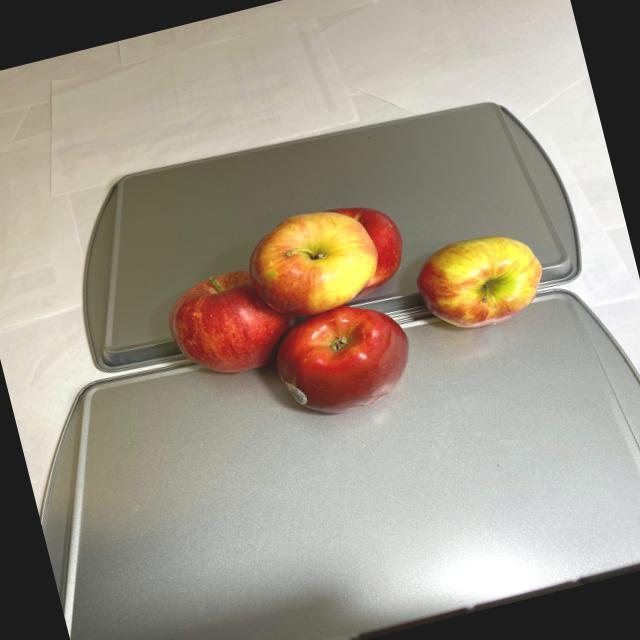apple: (145, 161, 561, 448)
